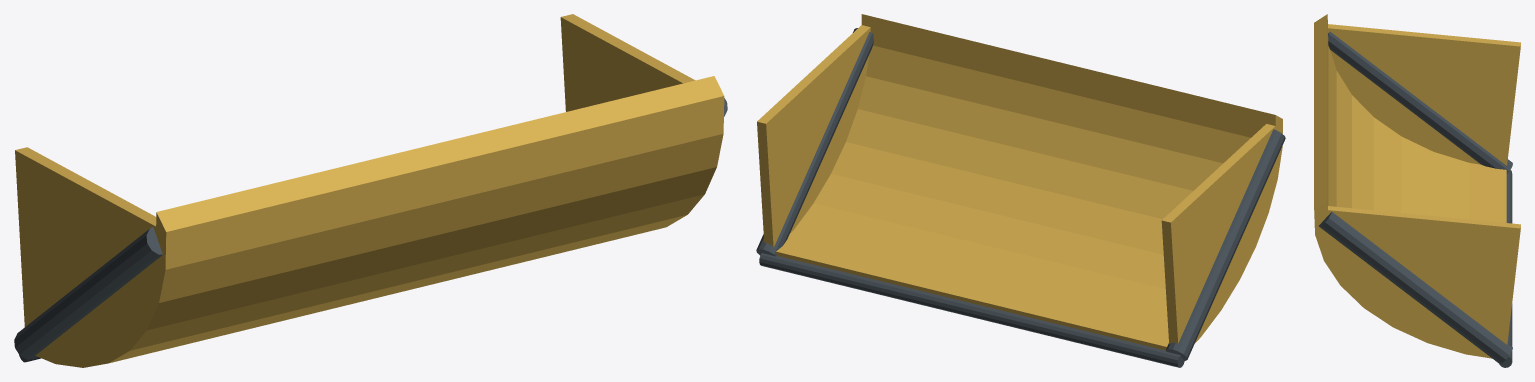
The model's file is grab_jaw_right.glb.
The picture shows the model from 3 angles, left to right: view 1: azimuth 30°, elevation 25°; view 2: azimuth 150°, elevation 25°; view 3: azimuth 270°, elevation 25°; orthographic projection. The views are drawn at different scales.
Visible parts, largest first — view 1: grab_jaw_right; view 2: grab_jaw_right; view 3: grab_jaw_right.
Part boxes in pixels (x1,y1,x2,y2): grab_jaw_right: (14,14,727,367); grab_jaw_right: (756,14,1285,367); grab_jaw_right: (1314,14,1520,367).
Size of the model in its own units: 1.87 by 0.7528 by 0.8453.
